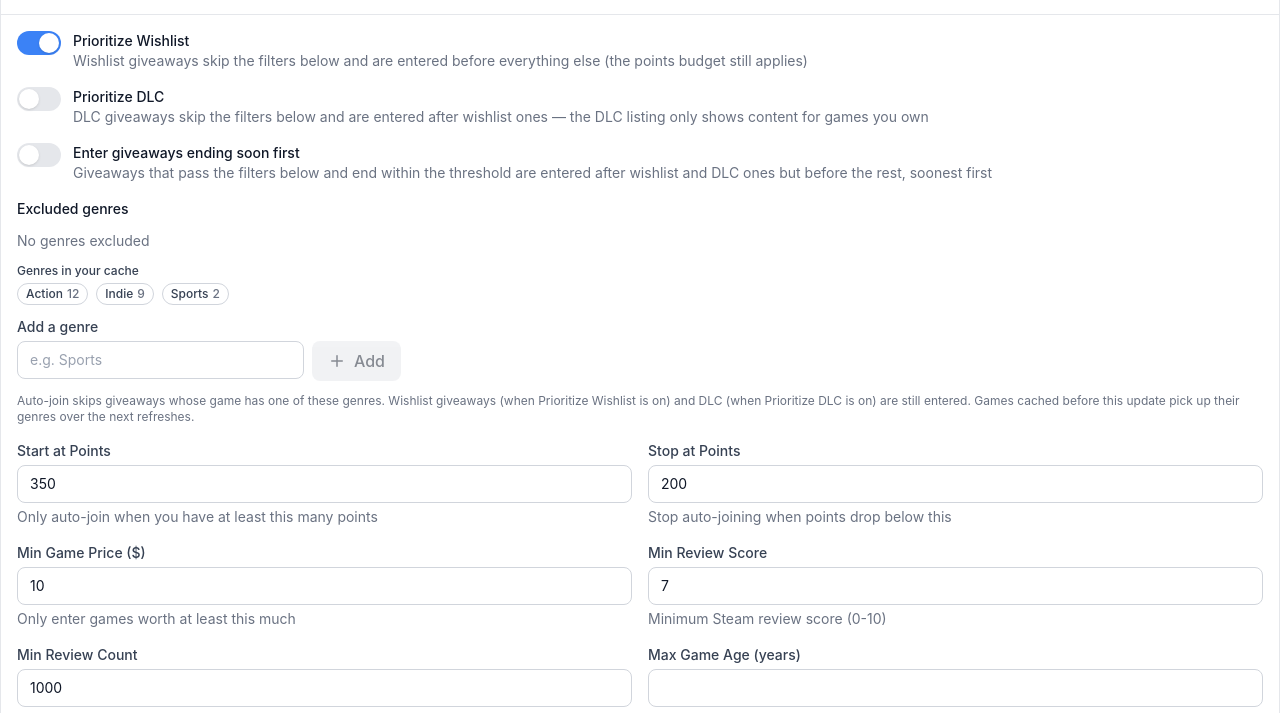
Test: Settings page: excluded genres › adds a typed genre with the Add button and clears the input
(page scrolled)
Type "  Racing " into the field labelled "Add a genre".
click(160, 360); type("  Racing ")  # box left=17, top=341, right=304, bottom=379
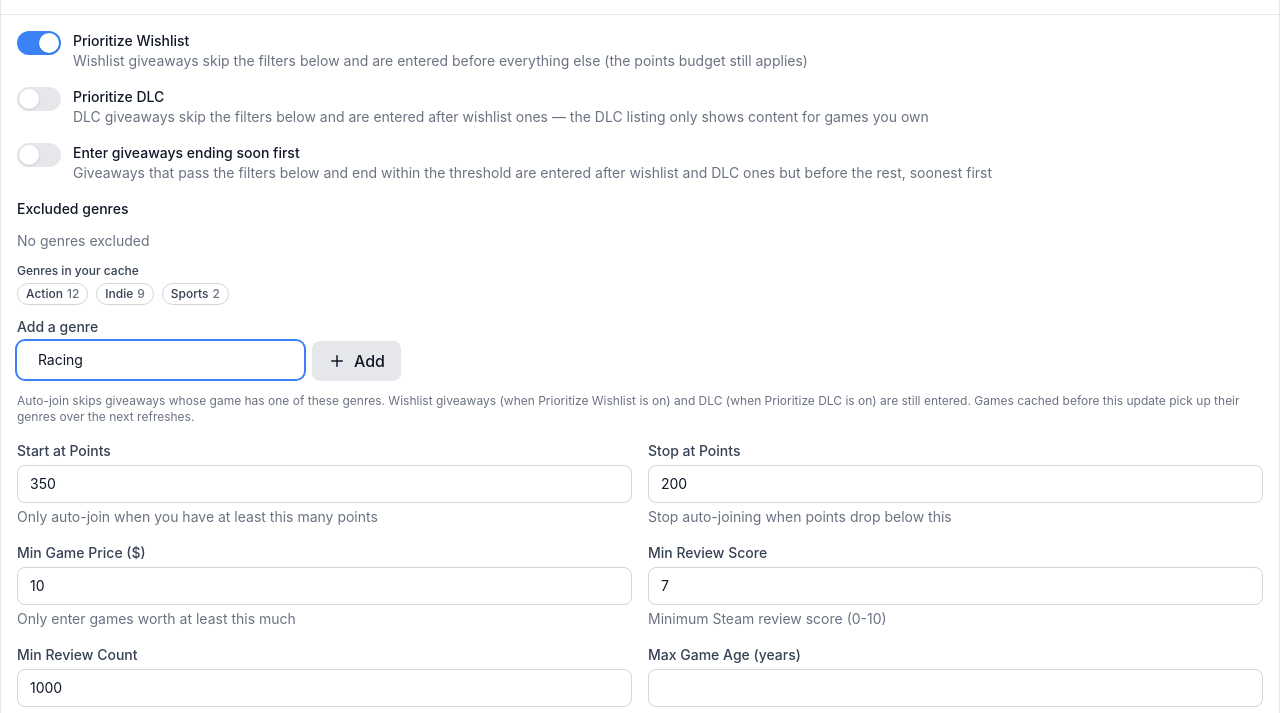
Click the button with aria-label "Add genre".
click(356, 361)  # box left=312, top=341, right=401, bottom=381
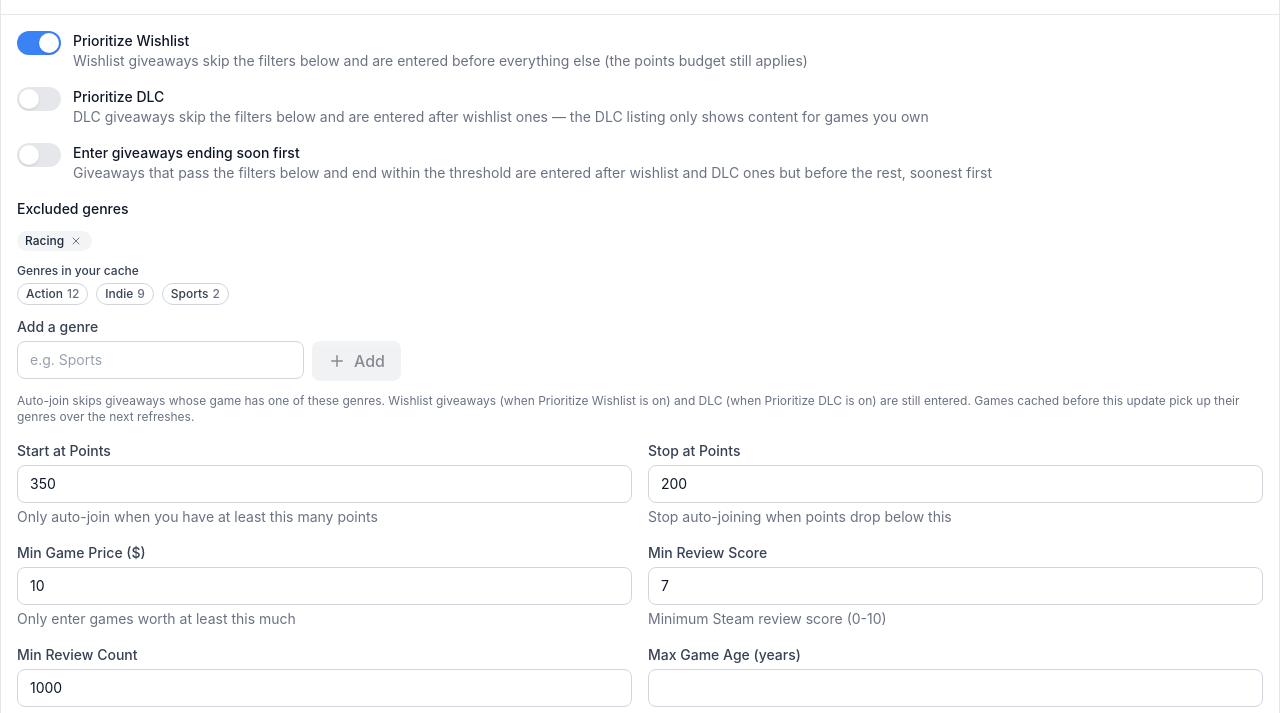
Now the text "Racing" is shown, box left=25, top=233, right=64, bottom=249
Now the field labelled "Add a genre" is empty, box left=17, top=341, right=304, bottom=379
